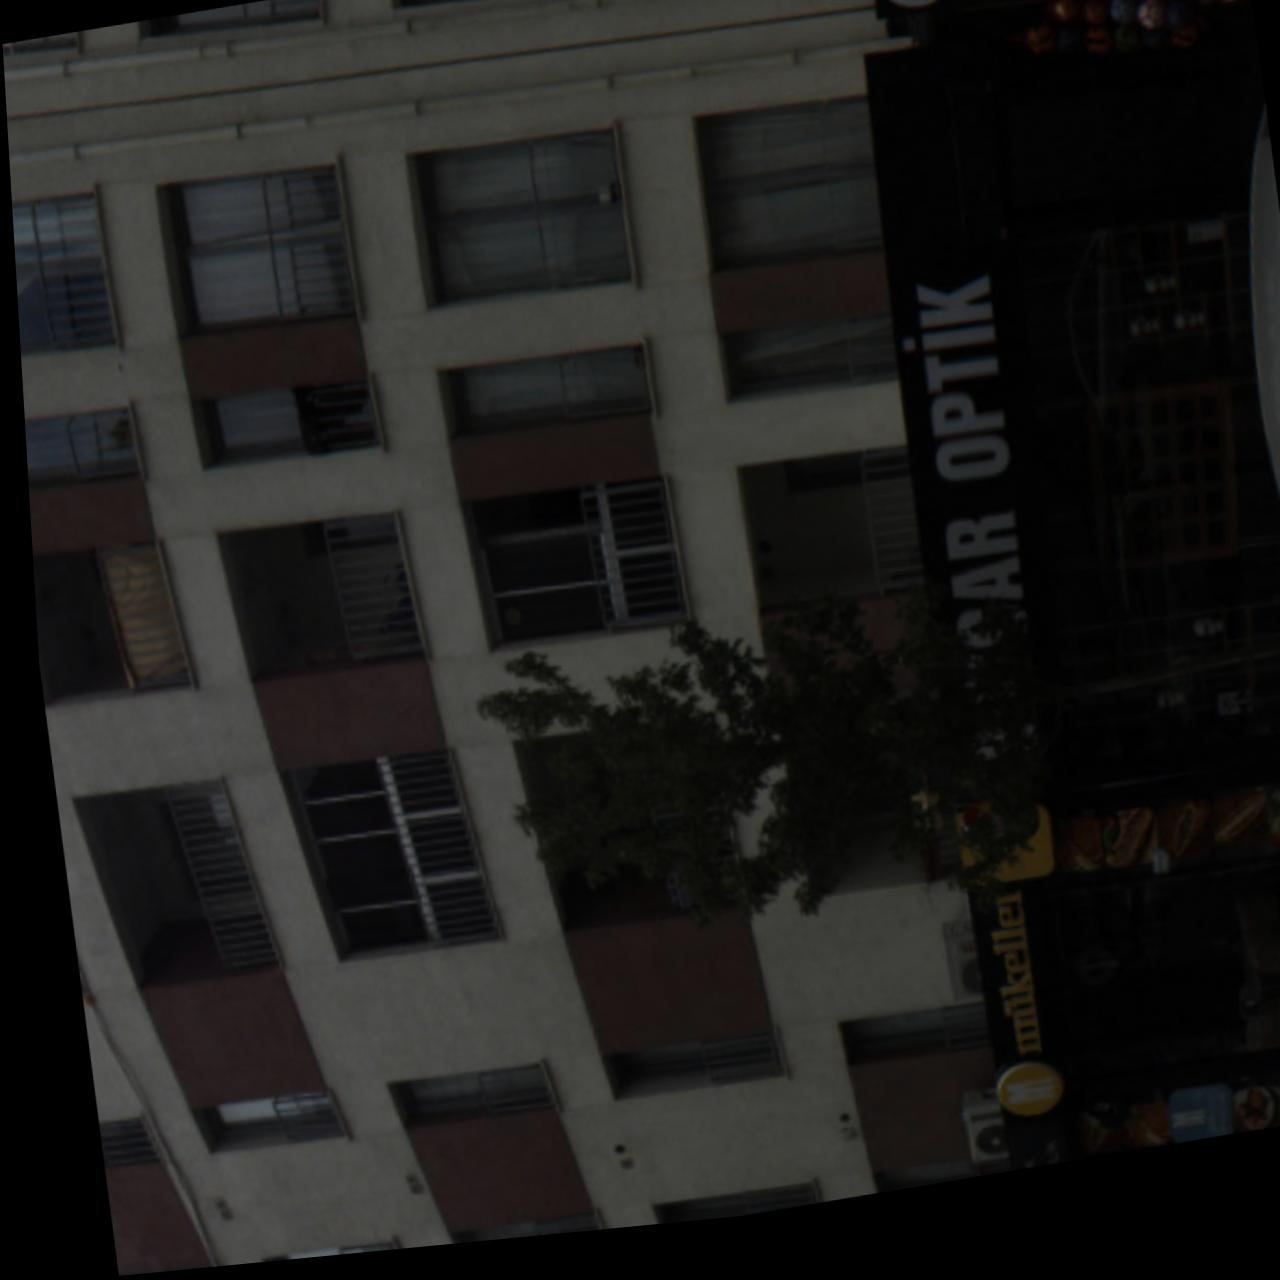SignStore: (862, 50, 1056, 809), (942, 817, 1060, 1144), (872, 0, 961, 36)
